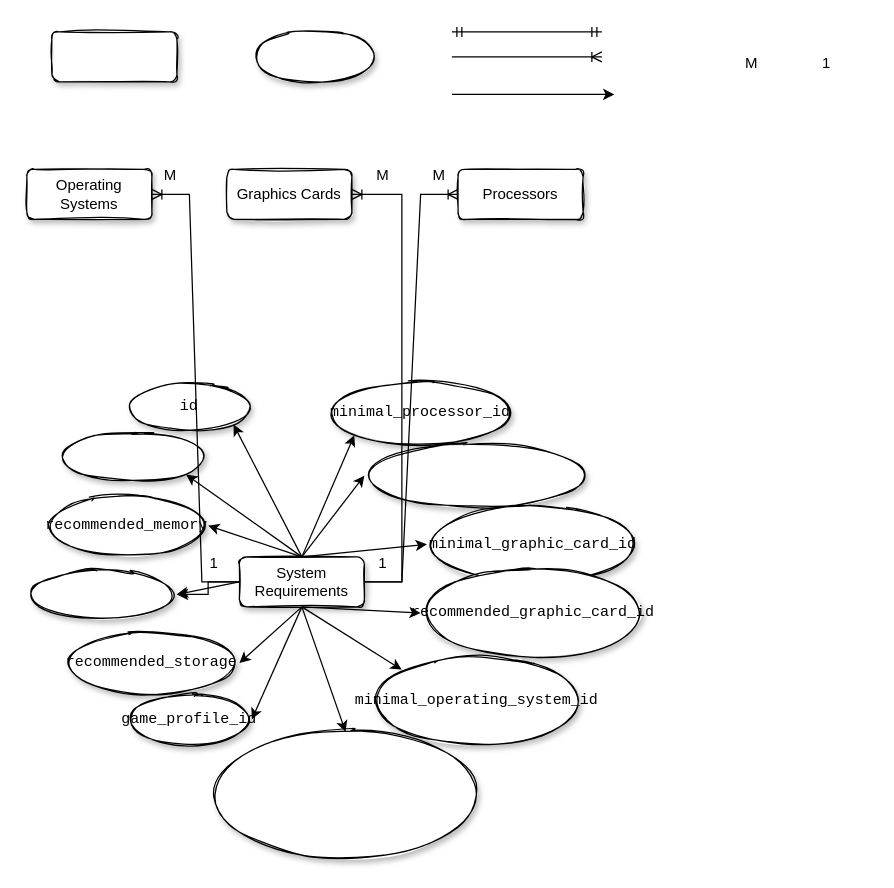
This 894x888 diagram has some shape labels left out. Each missing label, with the centre of its shape:
Attribute: point 315,58
Entity: point 115,58
minimal_memory: point 134,458
minimal_storage: point 102,595
recommended_operating_system_id: point 346,796
recommended_processor_id: point 477,477
